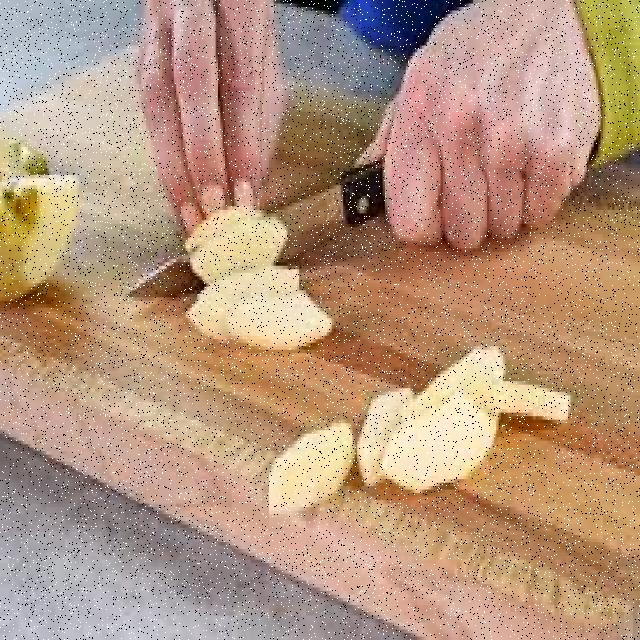Apple: (0, 136, 81, 298), (380, 397, 495, 495), (264, 418, 352, 519), (190, 267, 298, 334), (234, 288, 333, 355), (192, 220, 288, 287), (418, 340, 501, 410), (349, 386, 403, 479), (469, 381, 572, 423), (186, 203, 261, 248)
